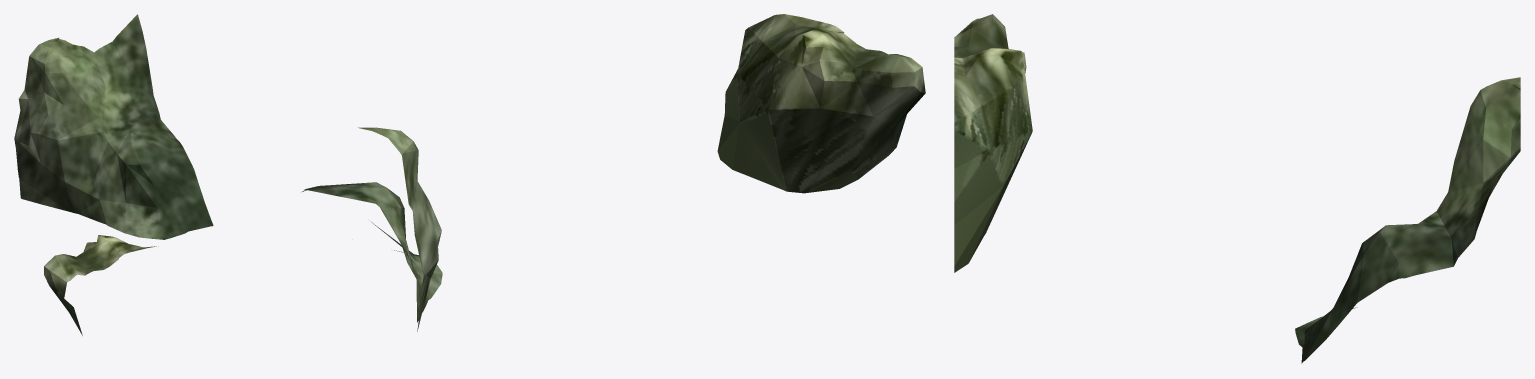
3 renders of one model, left to right at view 1: azimuth 30°, elevation 25°; view 2: azimuth 150°, elevation 25°; view 3: azimuth 270°, elevation 25°, orthographic. The views are drawn at different scales.
Size of the model in its own units: 2.4 by 1.3 by 2.95.
Materials: 1 (1 with a texture image).
